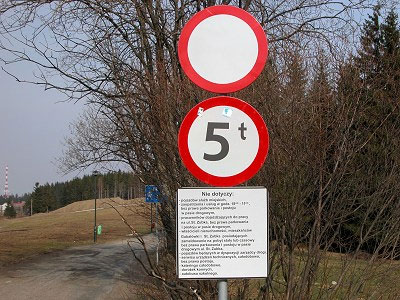no_entry_sign: (177, 5, 268, 93)
